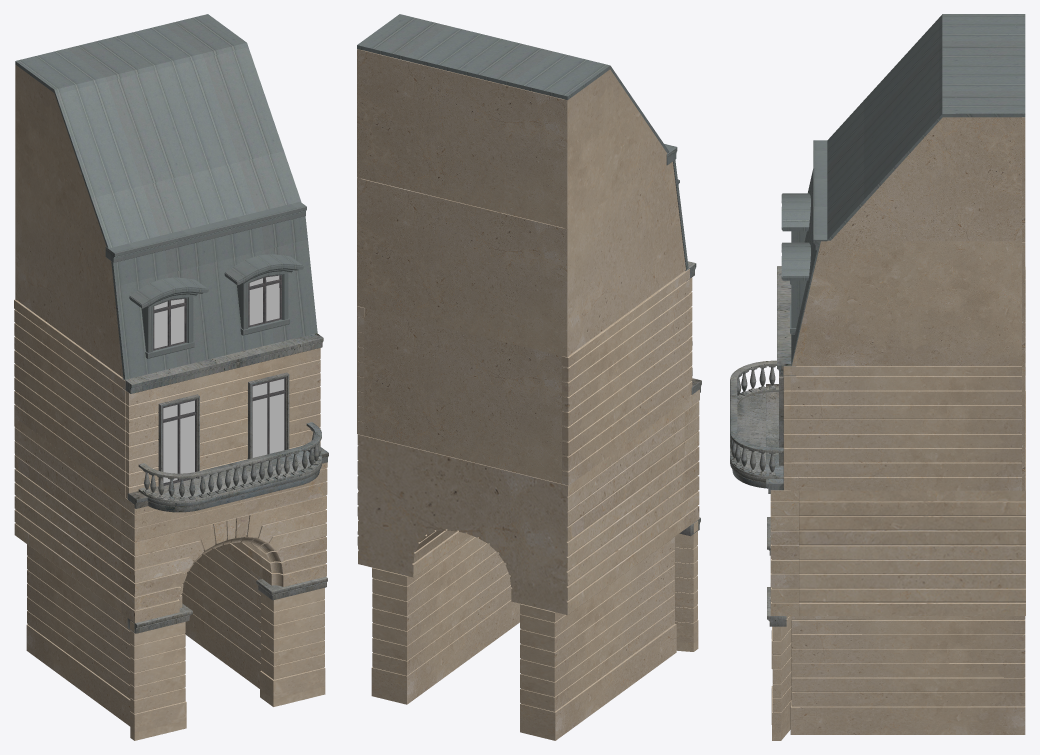
The model's file is house2.glb.
The picture shows the model from 3 angles, left to right: view 1: azimuth 30°, elevation 25°; view 2: azimuth 150°, elevation 25°; view 3: azimuth 270°, elevation 25°; orthographic projection. The views are drawn at different scales.
Parts seen in each view (by area): view 1: rooftop Haussmannien_6, entrance porch Haussmannien_45, roof Haussmannien_5, left wall haussmannien_46, wall left 2 haussmannien_29, left wall _1, face wall _27, porch wall left haussmannien_40, left wall above_2, porch wall right haussmannien.001_41, wall side right Haussmannien_43, wall side left Haussmannien.001_42 (+22 smaller); view 2: left wall haussmannien_46, wall back 1_7, wall back 2_8, wall back 3_28, porch wall left haussmannien_40, wall left 2 haussmannien_29, porch wall right haussmannien.001_41, left wall _1, rooftop Haussmannien_6, left wall above_2, wall side left Haussmannien.001_42, entrance porch Haussmannien_45; view 3: wall left 2 haussmannien_29, left wall haussmannien_46, porch wall right haussmannien.001_41, right wall _3, rooftop Haussmannien_6, right wall above_4, entrance porch Haussmannien_45, wall side right Haussmannien_43, Plane.123_21, corbelled zink_0, Cube.128_20, corbelled_25 (+10 smaller).
Boxes of the visible parts, x1,y1,x2,y2 form: rooftop Haussmannien_6: [15, 14, 301, 248]; entrance porch Haussmannien_45: [121, 462, 327, 622]; roof Haussmannien_5: [111, 216, 317, 379]; left wall haussmannien_46: [14, 417, 263, 612]; wall left 2 haussmannien_29: [14, 299, 125, 497]; left wall _1: [15, 182, 123, 377]; face wall _27: [125, 348, 320, 498]; porch wall left haussmannien_40: [26, 544, 130, 726]; left wall above_2: [15, 65, 106, 247]; porch wall right haussmannien.001_41: [181, 547, 262, 688]; wall side right Haussmannien_43: [260, 588, 325, 706]; wall side left Haussmannien.001_42: [130, 620, 186, 740]; left wall haussmannien_46: [357, 401, 684, 614]; wall back 1_7: [357, 49, 567, 228]; wall back 2_8: [357, 178, 568, 356]; wall back 3_28: [357, 306, 568, 483]; porch wall left haussmannien_40: [520, 537, 676, 740]; wall left 2 haussmannien_29: [357, 269, 689, 485]; porch wall right haussmannien.001_41: [371, 535, 520, 704]; left wall _1: [564, 156, 685, 356]; rooftop Haussmannien_6: [357, 14, 669, 153]; left wall above_2: [565, 69, 667, 227]; wall side left Haussmannien.001_42: [674, 521, 698, 651]; entrance porch Haussmannien_45: [683, 389, 699, 529]; wall left 2 haussmannien_29: [790, 267, 1025, 490]; left wall haussmannien_46: [799, 391, 1025, 615]; porch wall right haussmannien.001_41: [790, 616, 1025, 734]; right wall _3: [792, 241, 1024, 365]; rooftop Haussmannien_6: [827, 14, 1025, 240]; right wall above_4: [827, 117, 1021, 241]; entrance porch Haussmannien_45: [770, 490, 798, 615]; wall side right Haussmannien_43: [771, 616, 791, 740]; Plane.123_21: [730, 392, 767, 488]; corbelled zink_0: [813, 140, 827, 250]; Cube.128_20: [730, 366, 775, 476]; corbelled_25: [777, 266, 795, 376].
Bounding box in the file's own units: 4.84 × 14.13 × 6.03.
Materials: 5 (4 with a texture image).
